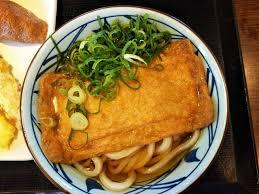kitune: (27, 11, 222, 189)
